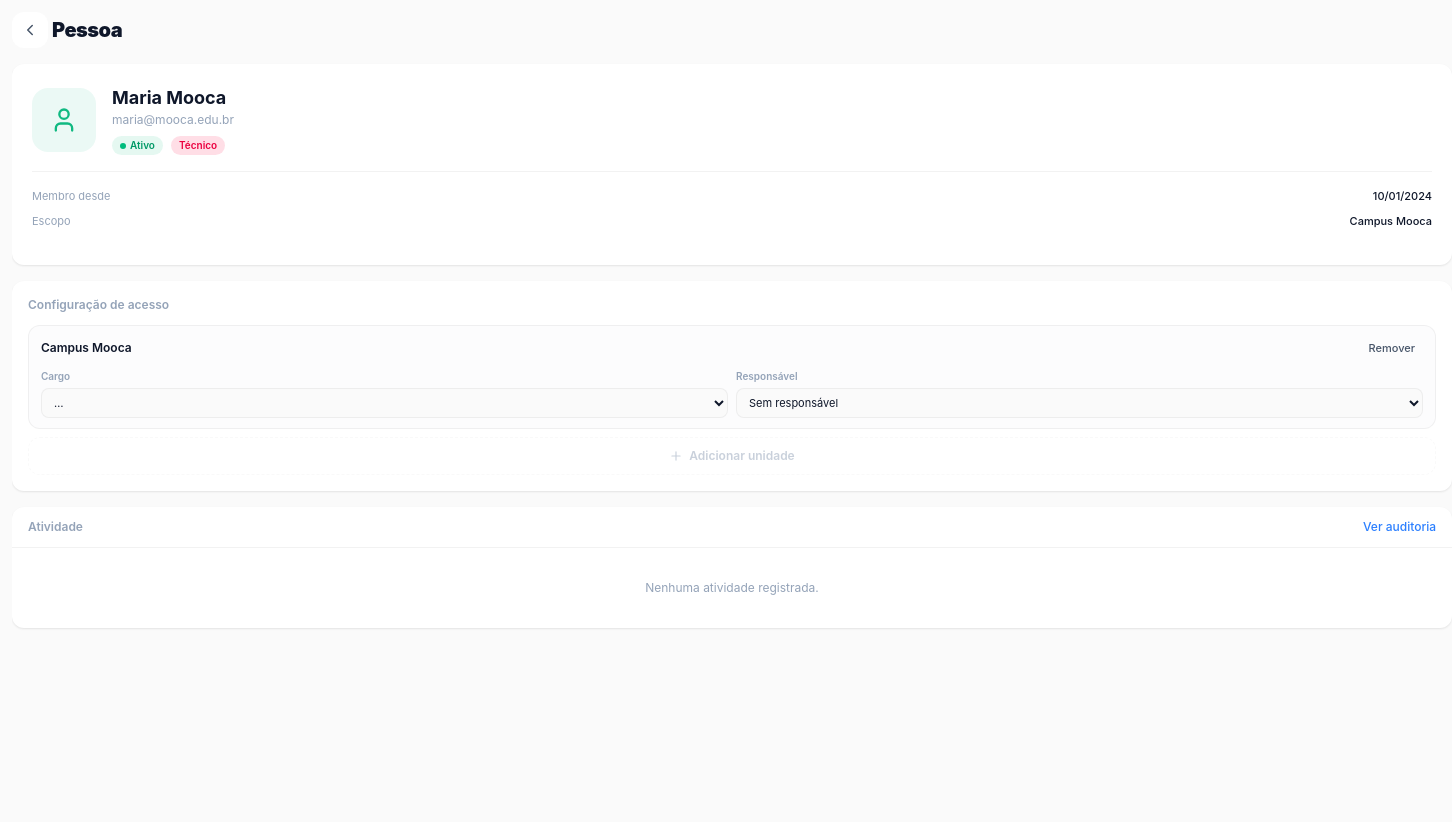
Test case: UserDetailPage › remover uma unidade não remove as demais
Expected: the dropdown named "Cargo em Campus Mooca" is shown, x1=41 y1=388 x2=728 y2=418
Click the button "Remover": (1392, 348) x1=1360 y1=336 x2=1423 y2=360
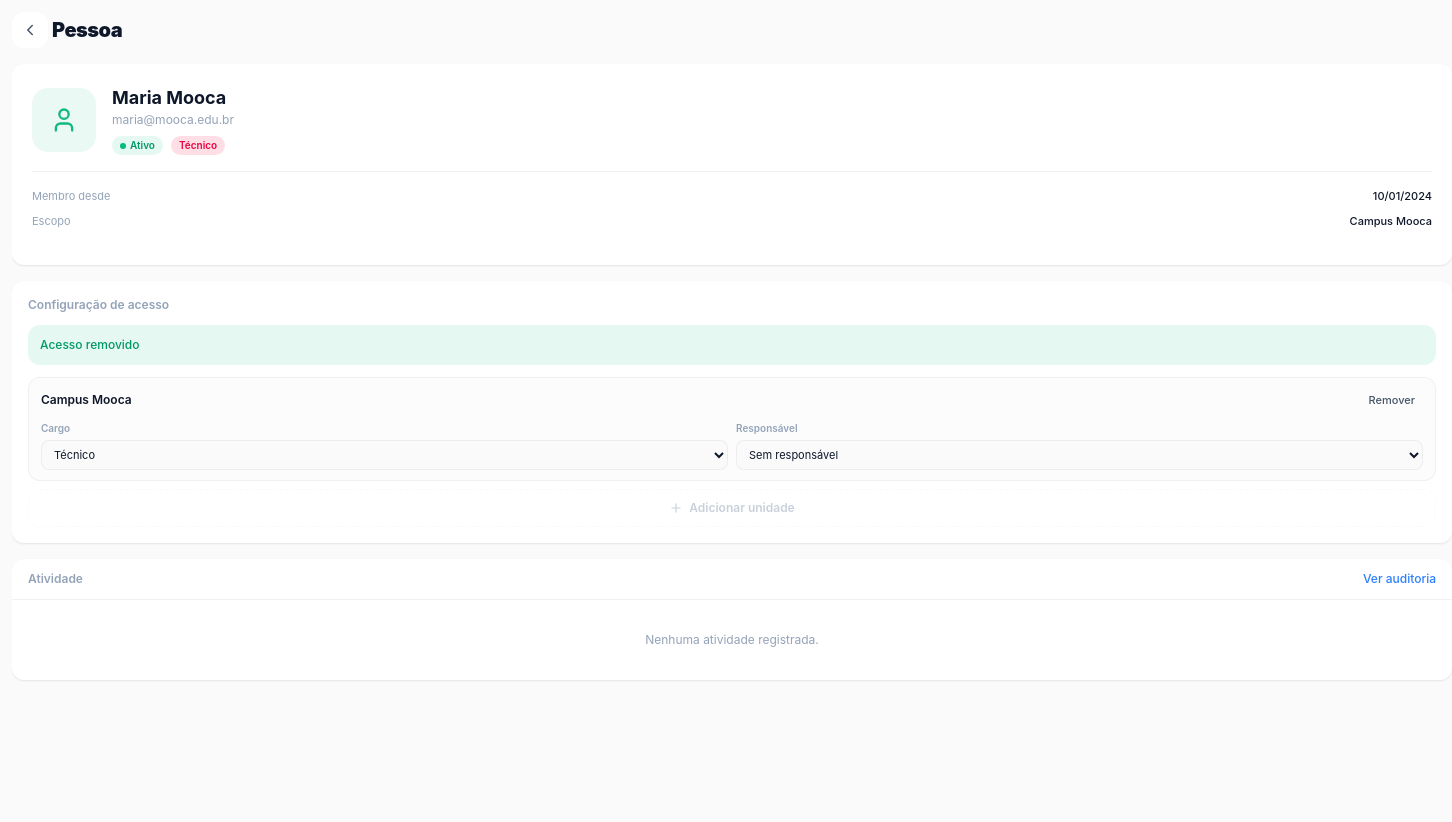
Expected: the text "Acesso removido" is shown, x1=28 y1=325 x2=1436 y2=365
